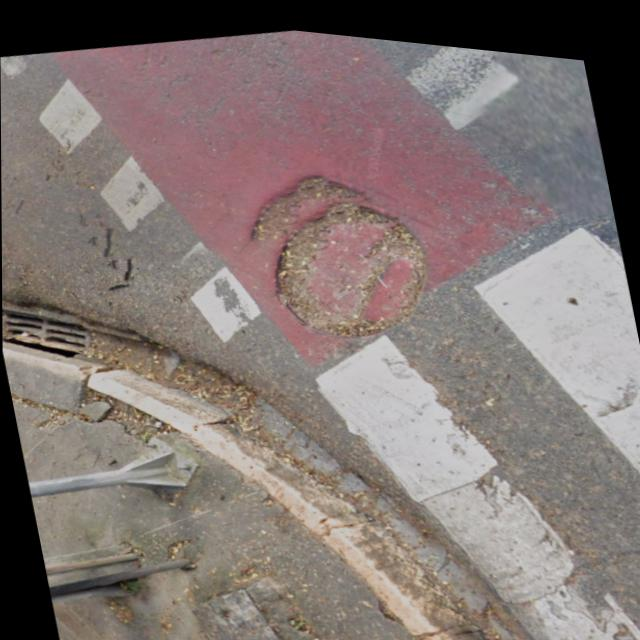Bueiro: (227, 130, 453, 355)
